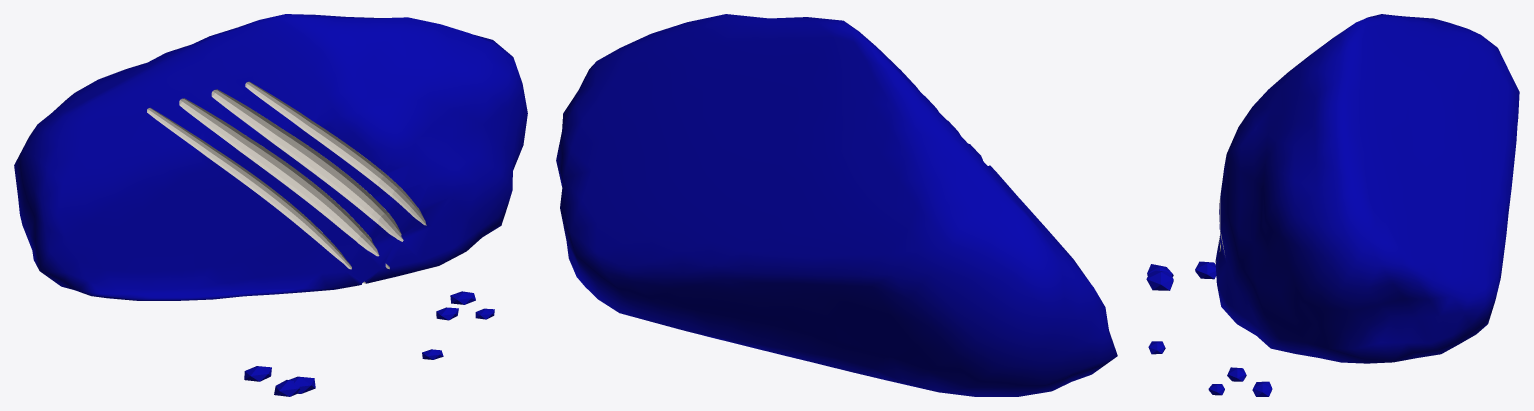
File: PROP_PC_ClawRock.fbx
3 renders of one model, left to right at view 1: azimuth 30°, elevation 25°; view 2: azimuth 150°, elevation 25°; view 3: azimuth 270°, elevation 25°, orthographic. The views are drawn at different scales.
Visible parts, largest first — view 1: PROP_PC_ClawRock_LOD0; view 2: PROP_PC_ClawRock_LOD0; view 3: PROP_PC_ClawRock_LOD0.
Part boxes in pixels (box(x1,y1,x2,y2)): PROP_PC_ClawRock_LOD0: box(14, 14, 527, 396); PROP_PC_ClawRock_LOD0: box(556, 14, 1117, 396); PROP_PC_ClawRock_LOD0: box(1146, 14, 1519, 396).
Size of what is drawn, in the model's own units: 3.13 by 1.85 by 2.06.
